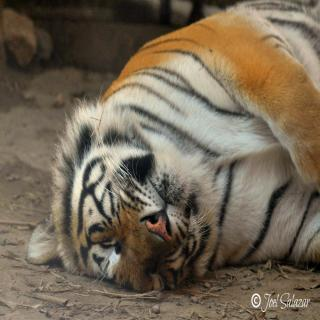Tiger: (26, 0, 319, 292)
